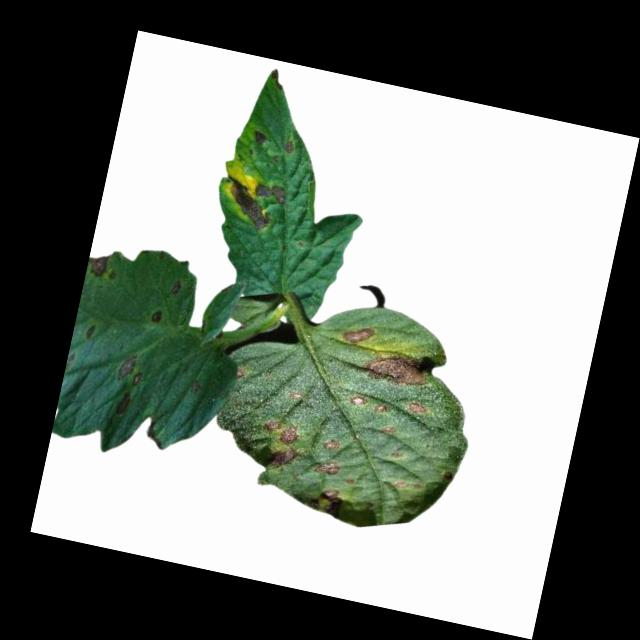Early_blight: (361, 346, 435, 391), (219, 177, 276, 231), (302, 482, 346, 517), (257, 415, 301, 447), (252, 177, 291, 205), (115, 353, 147, 387), (266, 444, 301, 474), (341, 321, 378, 348), (313, 455, 344, 480), (85, 251, 111, 278), (113, 386, 135, 417), (404, 397, 428, 418), (348, 389, 370, 409), (321, 434, 342, 454), (280, 137, 299, 156), (372, 398, 391, 417), (150, 304, 167, 325), (252, 128, 269, 148), (170, 276, 183, 296)
